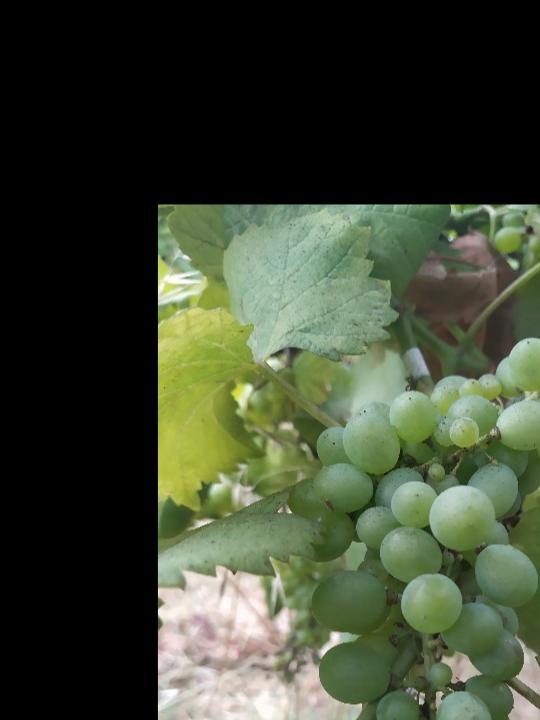grape: (287, 331, 540, 720)
